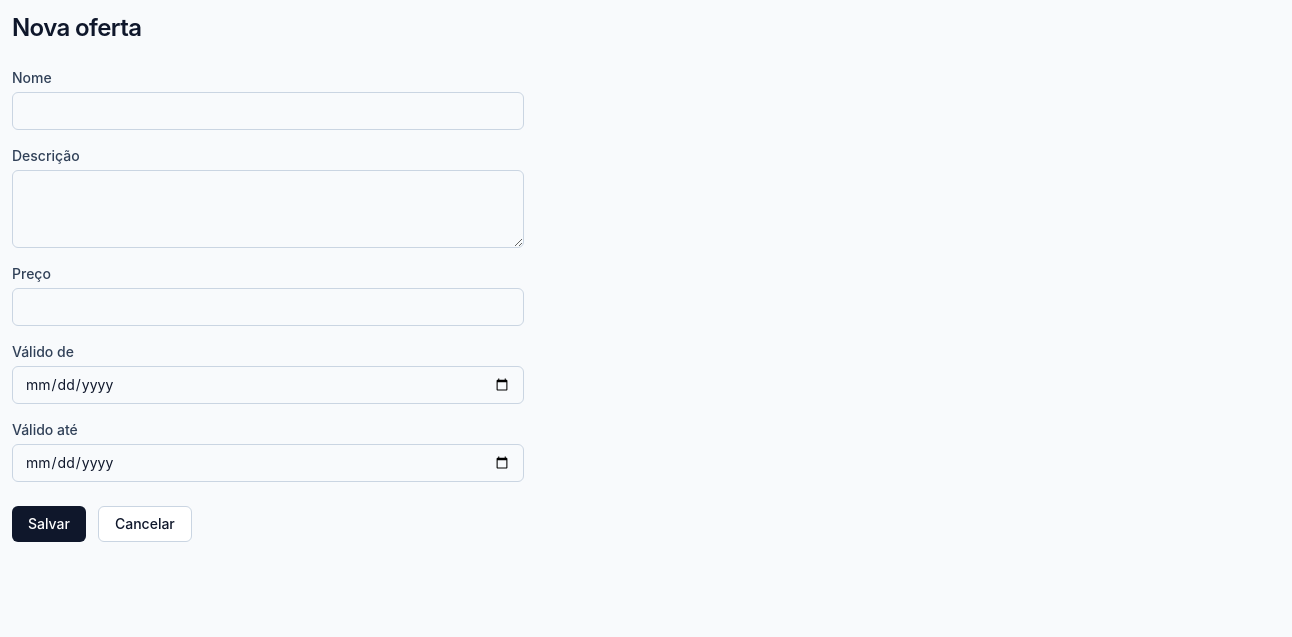
Test: OfferFormPage › missing price shows validation error and does not submit
Type "Pacote Paris" into the field labelled "Nome". click: (268, 111)
box: [12,92,524,130]
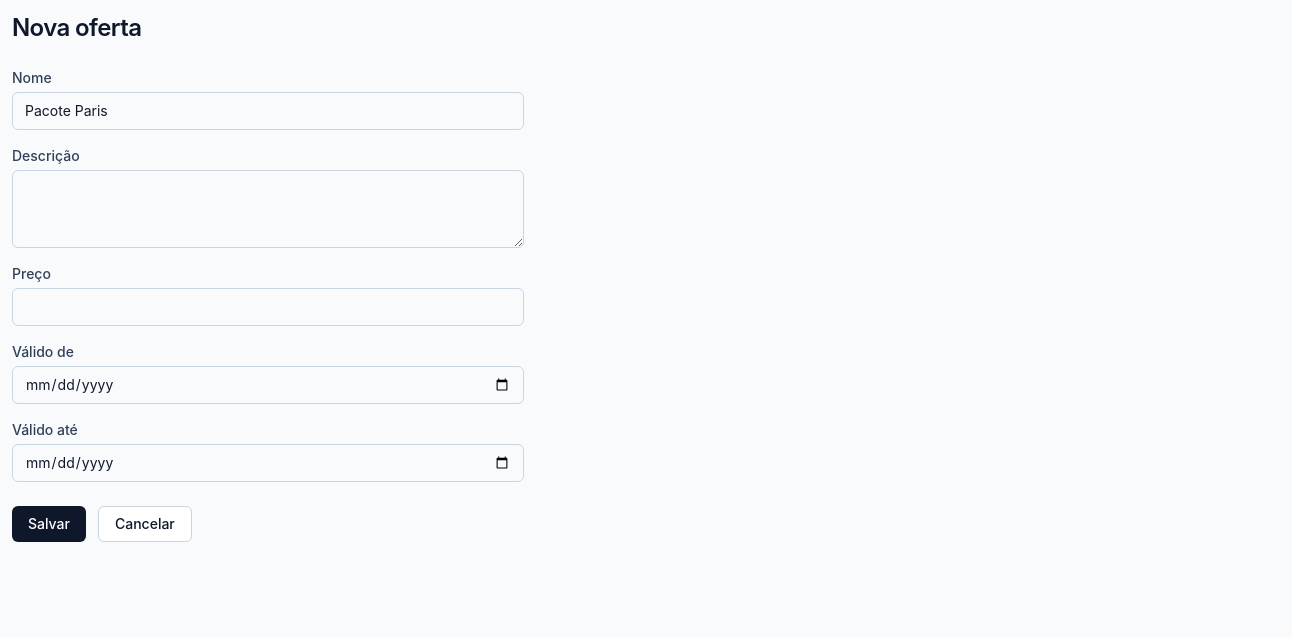
Click the button "Salvar". click: (49, 524)
box: [12,506,86,542]
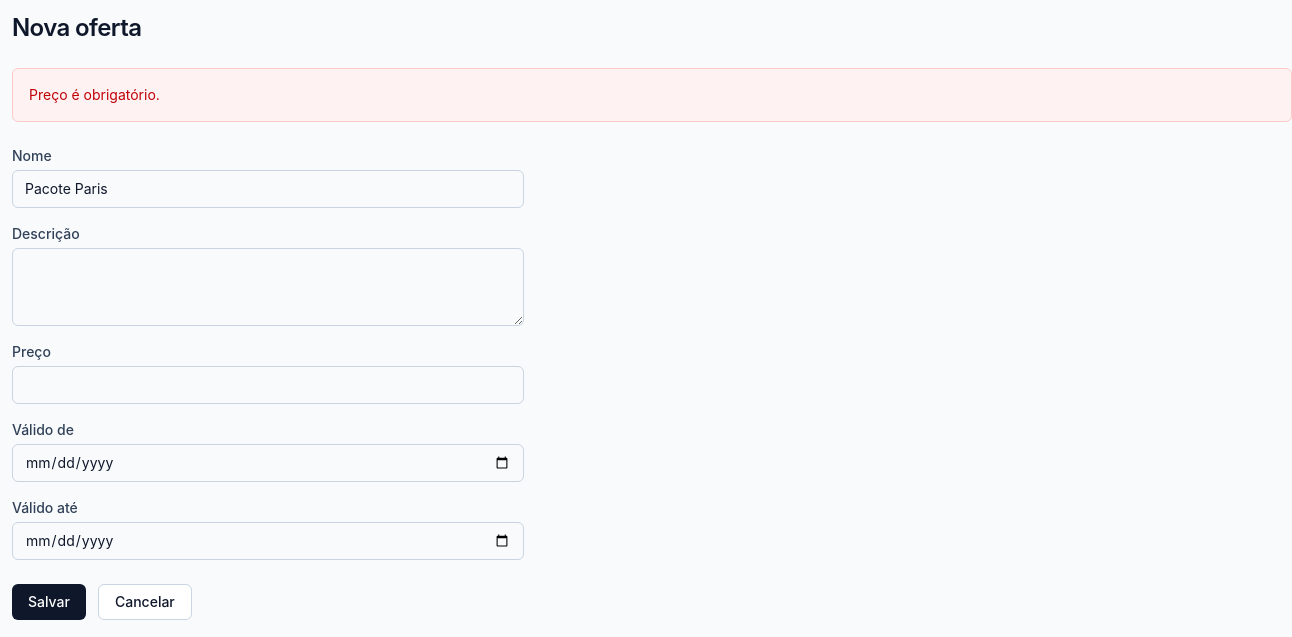
Expected: the text "Preço é obrigatório." is shown, [12,68,1291,122]
